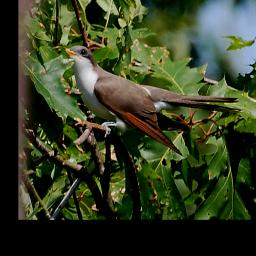Cuckoo: (65, 45, 243, 156)
